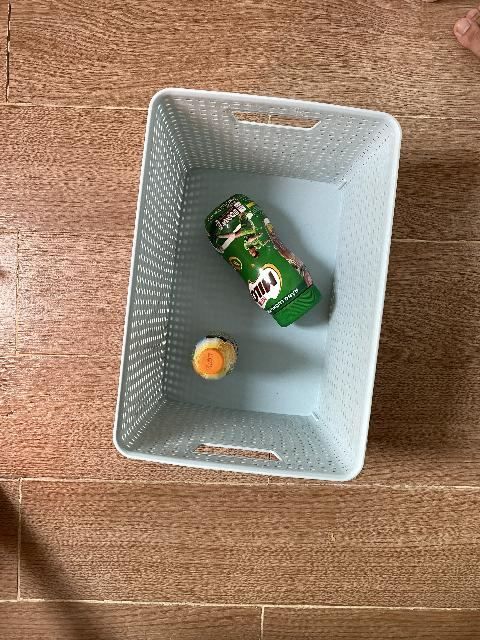cart: (113, 86, 402, 483)
milo: (204, 193, 323, 328)
teppy_orange_juice: (191, 331, 238, 380)
